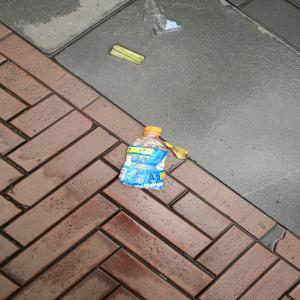Plastic-bottle: (119, 126, 170, 191)
Trash: (110, 45, 148, 67)
